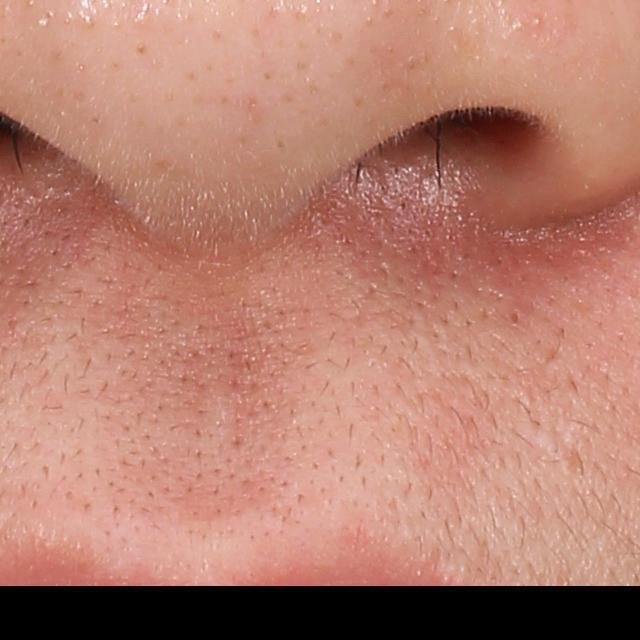comedo: (507, 307, 527, 327)
